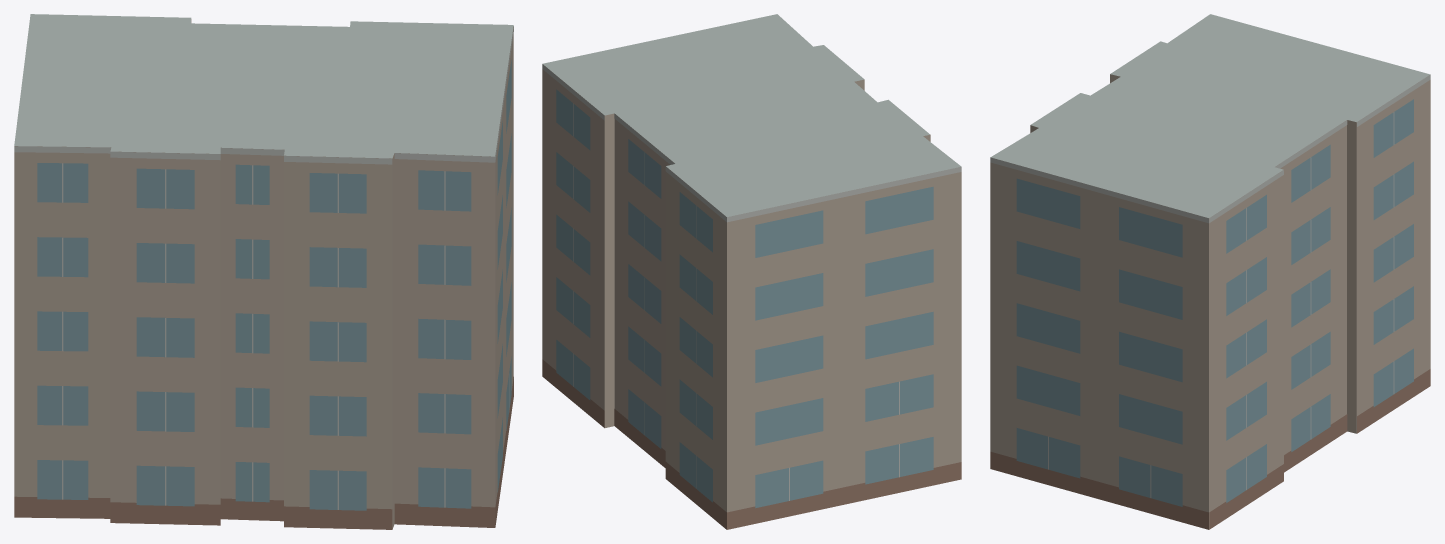
File: survey-upis-32723279.glb
The picture shows the model from 3 angles, left to right: view 1: azimuth 30°, elevation 25°; view 2: azimuth 150°, elevation 25°; view 3: azimuth 270°, elevation 25°; orthographic projection. The views are drawn at different scales.
Parts seen in each view (by area): view 1: survey-upis-32723279.tmp; view 2: survey-upis-32723279.tmp; view 3: survey-upis-32723279.tmp.
Boxes of the visible parts, x1=… form: survey-upis-32723279.tmp: x1=14, y1=14, x2=513, y2=529; survey-upis-32723279.tmp: x1=542, y1=14, x2=961, y2=529; survey-upis-32723279.tmp: x1=990, y1=14, x2=1430, y2=529.
Size of the model in its own units: 20.81 by 14.8 by 18.95.
